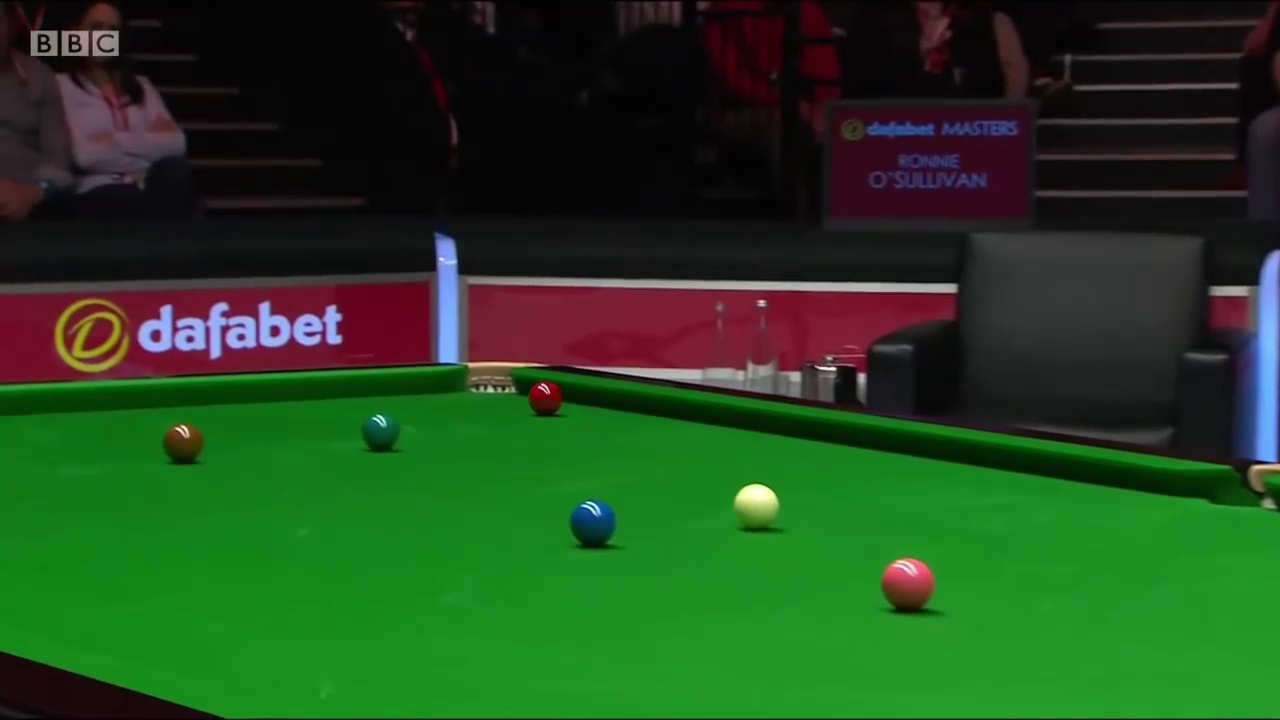ball: (881, 557, 937, 612), (732, 480, 786, 531), (572, 499, 619, 544), (159, 424, 209, 462), (361, 407, 399, 448), (528, 381, 565, 417)
